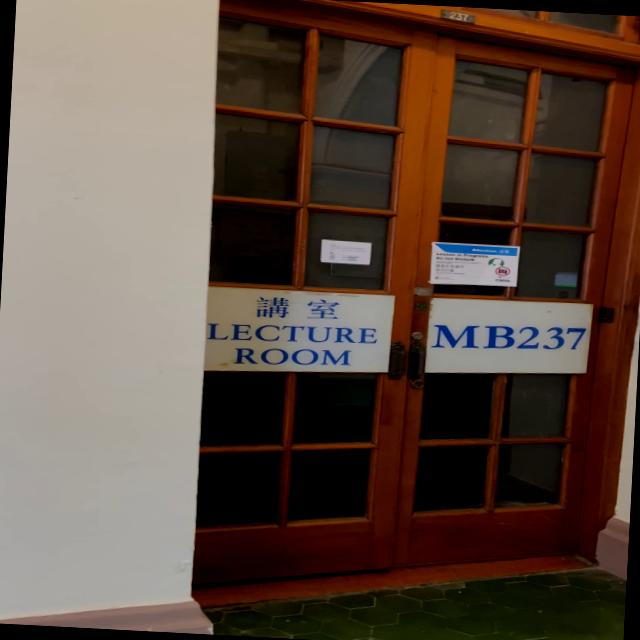room237: (436, 7, 476, 26)
room237Window: (430, 317, 588, 358)
